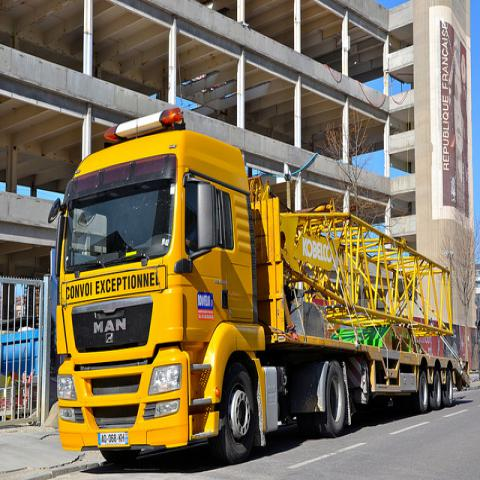truck: (48, 108, 473, 474)
